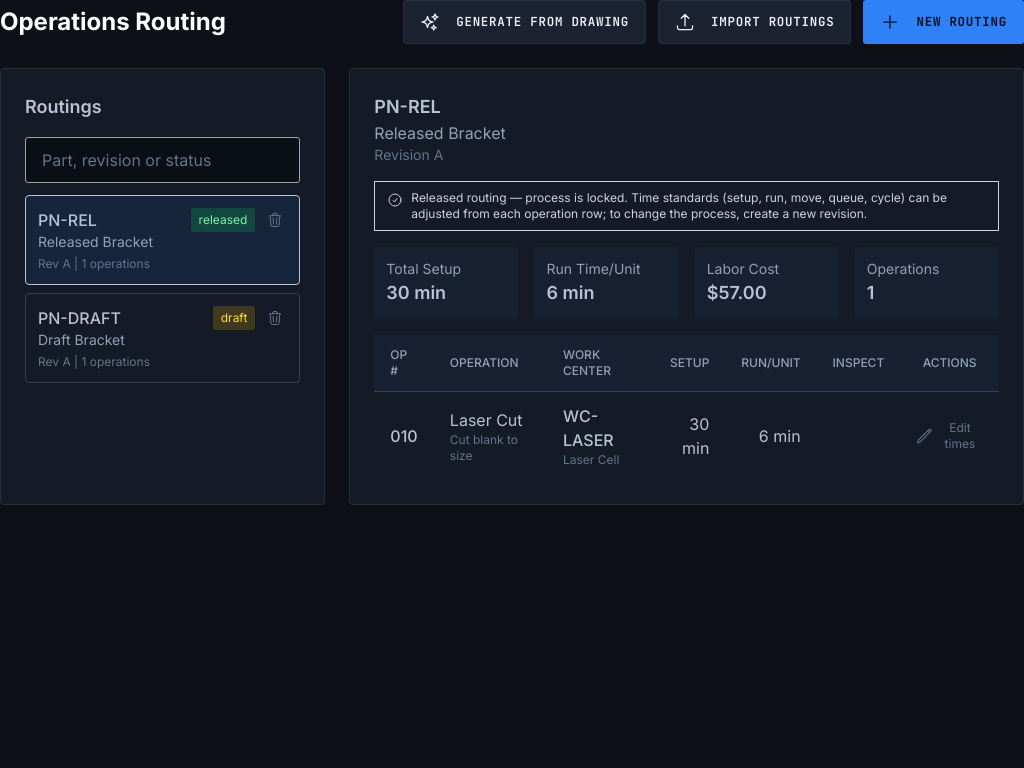
Routing — released time-standard editing › released edit modal renders only time fields — no Work Center / Operation Name / Sequence
The image size is (1024, 768).
Expected: the text "Laser Cut" is shown, [450,408,531,432]
Click the button titled "Edit time standards" at (950, 436), box [916,420,983,452]
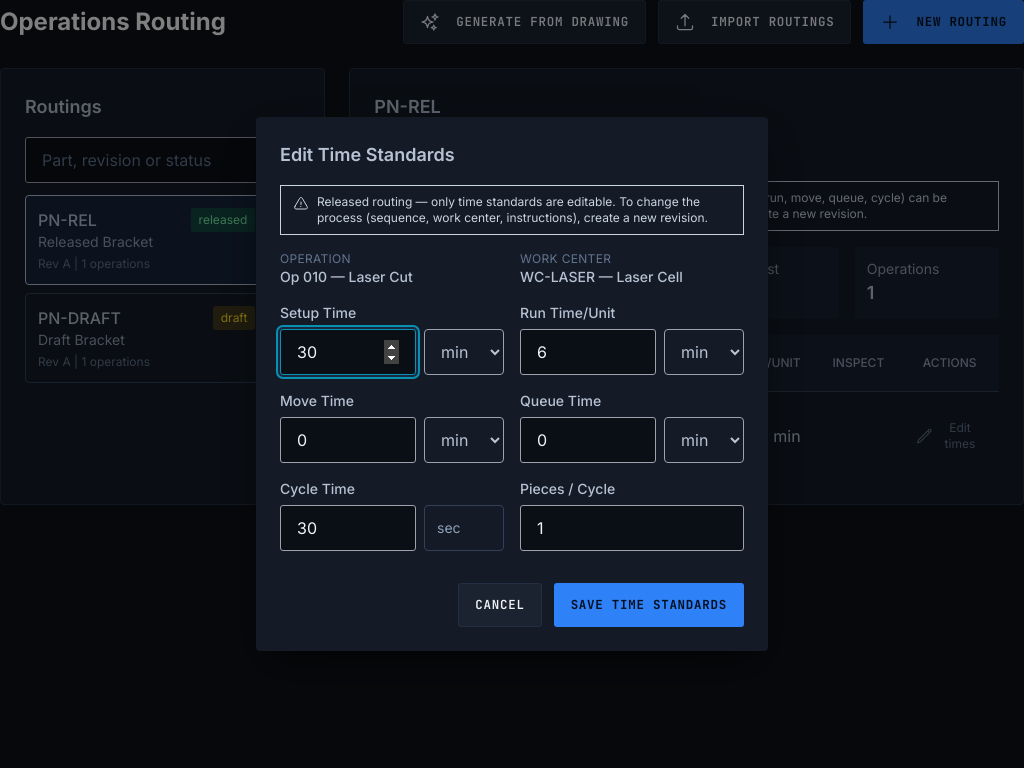
Result: the heading "Edit Time Standards" is shown at [280,144,455,165]
Result: the text "Setup Time" is shown at [280,304,356,321]
Result: the text "Run Time/Unit" is shown at [520,304,615,321]
